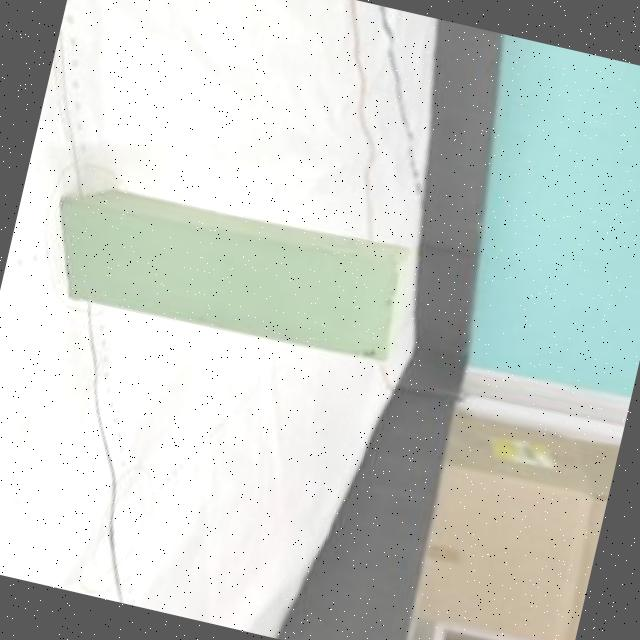greenbox: (38, 160, 422, 373)
